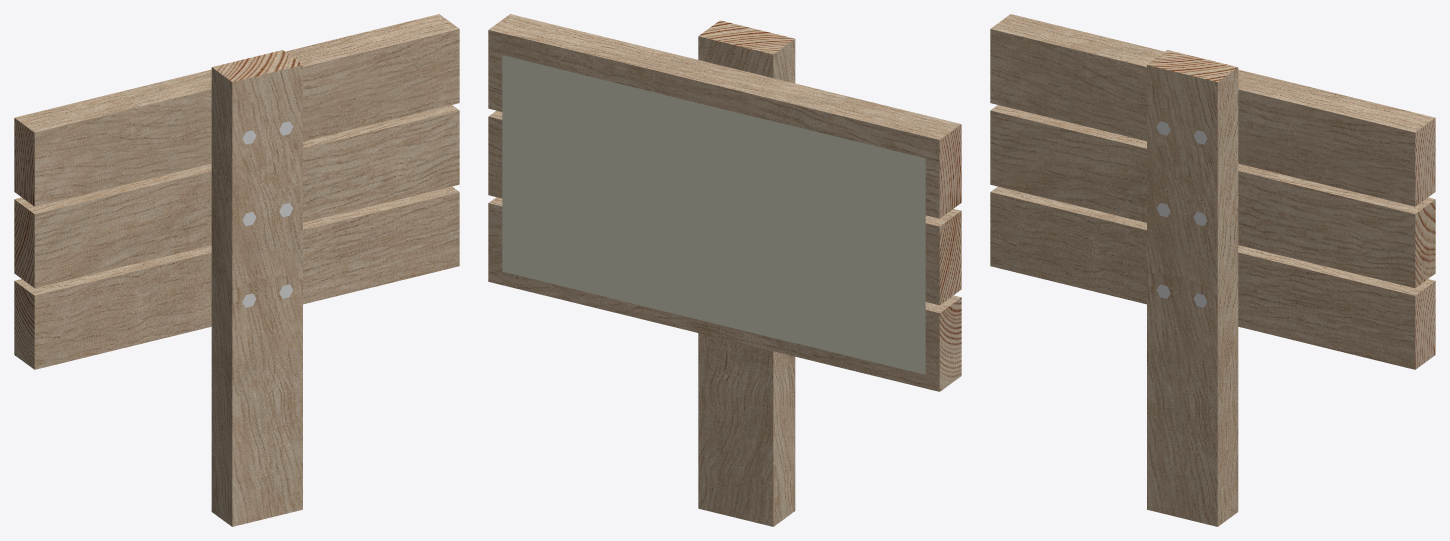
The model's file is signpost.fbx.
3 renders of one model, left to right at view 1: azimuth 30°, elevation 25°; view 2: azimuth 150°, elevation 25°; view 3: azimuth 330°, elevation 25°, orthographic. The views are drawn at different scales.
Parts seen in each view (by area): view 1: Cube; view 2: Cube; view 3: Cube.
Boxes of the visible parts, box(x1,y1,x2,y2) form: Cube: box(14, 14, 459, 526); Cube: box(488, 14, 961, 526); Cube: box(990, 14, 1435, 526).
Bounding box in the file's own units: 20.3 × 120 × 120.
